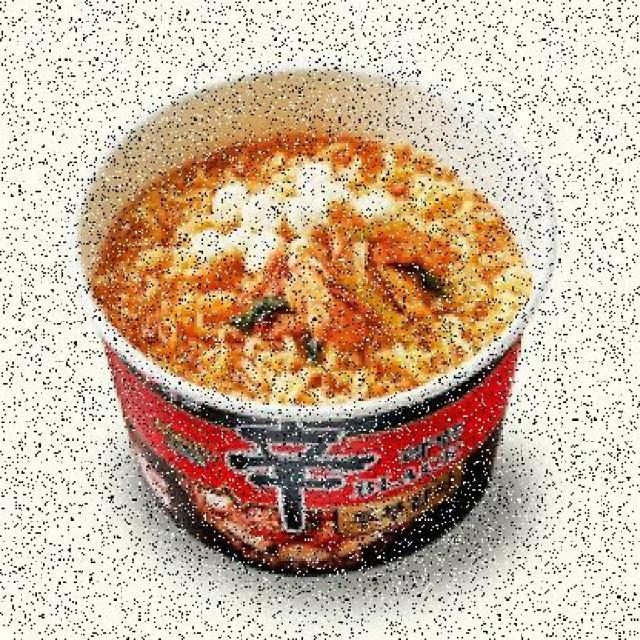Miscellaneous: (90, 61, 566, 584)
